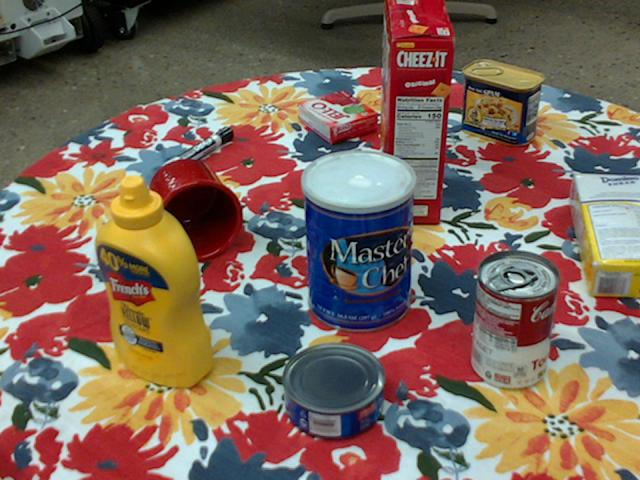cracker_box: (381, 0, 454, 223)
gelatin_box: (297, 90, 378, 145)
large_marker: (163, 125, 233, 174)
master_chef_can: (300, 150, 415, 334)
mug: (136, 158, 244, 262)
mustard_bottle: (93, 174, 214, 386)
potted_meat_can: (463, 59, 547, 145)
sugar_box: (571, 174, 639, 298)
tomato_soup_can: (472, 249, 560, 390)
tuna_fish_can: (278, 343, 382, 440)
